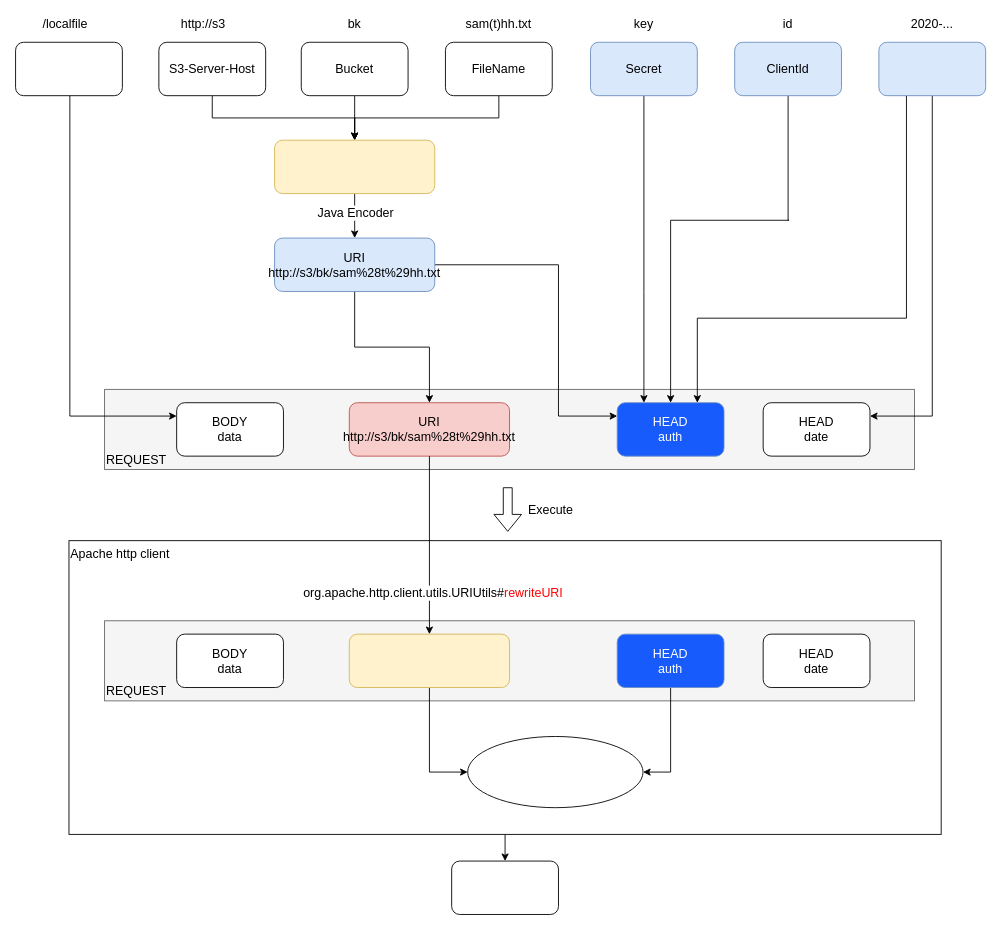
Some shapes in this 1001 by 930 pixel diagram are drawn without their labels. Here are the shapes that lost their labels. From the top down, the centre of each, then its label:
(68,68): FileInputStream
(932,68): Date
(354,166): URI http://s3/bk/ sam(t)hh.txt
(429,660): URI http://s3/bk/sam(t)hh.txt
(555,772): 资源 & 签名 【URI】& 【auth】 不匹配
(504,887): ERROR-401
